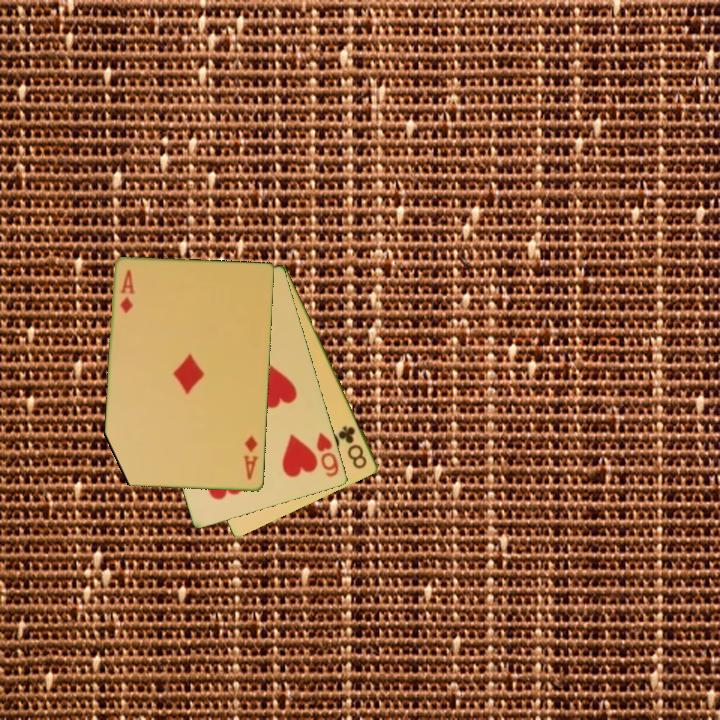6h: (313, 429, 342, 480)
8c: (335, 422, 370, 472)
Ad: (240, 433, 261, 483), (117, 267, 138, 317)
